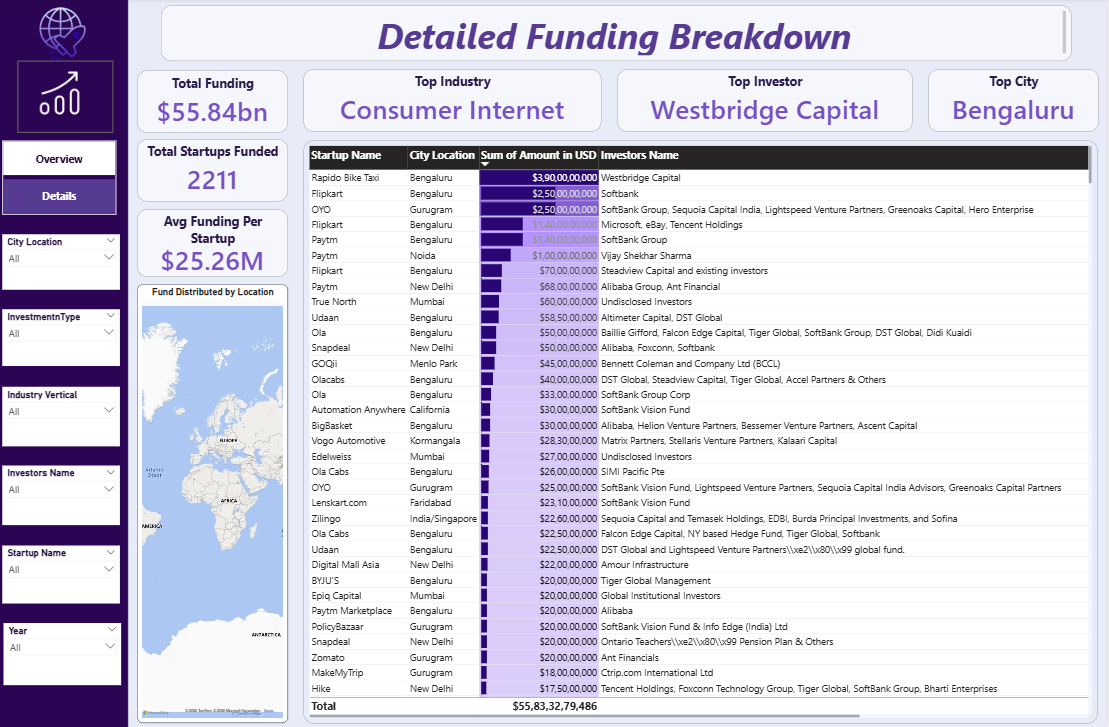

This screenshot's page, from the dashboard's own definition file:
{"tool":"powerbi","page":{"name":"Details","canvas":[2800,1850],"ordinal":1},"visuals":[{"type":"shape","box":[0,0,333.3,1850],"z":0},{"type":"card","title":"Avg Funding Per Startup","fields":{"Values":["startup_funding.Avg Funding Per Startup"]},"box":[356.7,533.9,380,170],"z":1000},{"type":"card","title":"Top Industry","fields":{"Values":["startup_funding.Top Industry"]},"box":[776.4,181.1,751.1,157.8],"z":2000},{"type":"card","title":"Top City","fields":{"Values":["startup_funding.Top City"]},"box":[2351.3,181.1,429.2,157.8],"z":3000},{"type":"card","title":"Top Investor","fields":{"Values":["startup_funding.Top Investor"]},"box":[1565.4,181.1,744.8,157.8],"z":4000},{"type":"card","title":"Total Startups Funded","fields":{"Values":["startup_funding.Total Startups Funded"]},"box":[356.7,357.8,380,156.7],"z":5000},{"type":"card","title":"Total Funding","fields":{"Values":["startup_funding.Total Funding"]},"box":[356.7,181.7,380,156.7],"z":6000},{"type":"filledMap","title":"Fund Distributed by Location","fields":{"Category":["startup_funding.City Location"]},"box":[356.7,723.3,380,1106.7],"z":7000},{"type":"pageNavigator","box":[15.8,358.7,288,187.5],"z":8000},{"type":"slicer","fields":{"Values":["startup_funding.City Location"]},"box":[16.7,596.3,296.7,140],"z":9000},{"type":"slicer","fields":{"Values":["startup_funding.InvestmentnType"]},"box":[16.7,786.4,296.7,143.3],"z":10000},{"type":"slicer","fields":{"Values":["startup_funding.Industry Vertical"]},"box":[16.7,979.8,296.7,150],"z":11000},{"type":"slicer","fields":{"Values":["startup_funding.Investors Name"]},"box":[16.7,1179.8,296.7,150],"z":12000},{"type":"slicer","fields":{"Values":["startup_funding.Startup Name"]},"box":[16.7,1379.9,296.7,146.7],"z":13000},{"type":"slicer","fields":{"Values":["startup_funding.Year"]},"box":[20,1576.7,296.7,156.7],"z":14000},{"type":"textbox","box":[416.7,20,2296.7,140],"z":15000},{"type":"tableEx","fields":{"Values":["startup_funding.Startup Name","startup_funding.City Location","Sum(startup_funding.Amount in USD)","startup_funding.Investors Name","startup_funding.InvestmentnType"]},"box":[776.7,360,2003.3,1470],"z":16000},{"type":"image","box":[53.3,180,213.3,120],"z":17000},{"type":"image","box":[37.5,12.5,260,160],"z":18000},{"type":"actionButton","box":[53.6,157.6,242.8,182.9],"z":19000}]}

Visuals, with their boxes on the page's 2800x1850 design canvas (x1, y1, x2, y2). These are canvas units, not pixel positions in the 1109x727 screenshot, which may show the page scaled, cropped or inside an application window:
shape: bbox=[0, 0, 333, 1850]
"Avg Funding Per Startup" card: bbox=[357, 534, 737, 704]
"Top Industry" card: bbox=[776, 181, 1528, 339]
"Top City" card: bbox=[2351, 181, 2780, 339]
"Top Investor" card: bbox=[1565, 181, 2310, 339]
"Total Startups Funded" card: bbox=[357, 358, 737, 514]
"Total Funding" card: bbox=[357, 182, 737, 338]
"Fund Distributed by Location" filledMap: bbox=[357, 723, 737, 1830]
pageNavigator: bbox=[16, 359, 304, 546]
slicer - startup_funding.City Location: bbox=[17, 596, 313, 736]
slicer - startup_funding.InvestmentnType: bbox=[17, 786, 313, 930]
slicer - startup_funding.Industry Vertical: bbox=[17, 980, 313, 1130]
slicer - startup_funding.Investors Name: bbox=[17, 1180, 313, 1330]
slicer - startup_funding.Startup Name: bbox=[17, 1380, 313, 1527]
slicer - startup_funding.Year: bbox=[20, 1577, 317, 1733]
textbox: bbox=[417, 20, 2713, 160]
tableEx - startup_funding.Startup Name x startup_funding.City Location: bbox=[777, 360, 2780, 1830]
image: bbox=[53, 180, 267, 300]
image: bbox=[38, 12, 298, 172]
actionButton: bbox=[54, 158, 296, 340]
